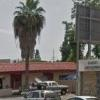Tree: (11, 2, 57, 61)
